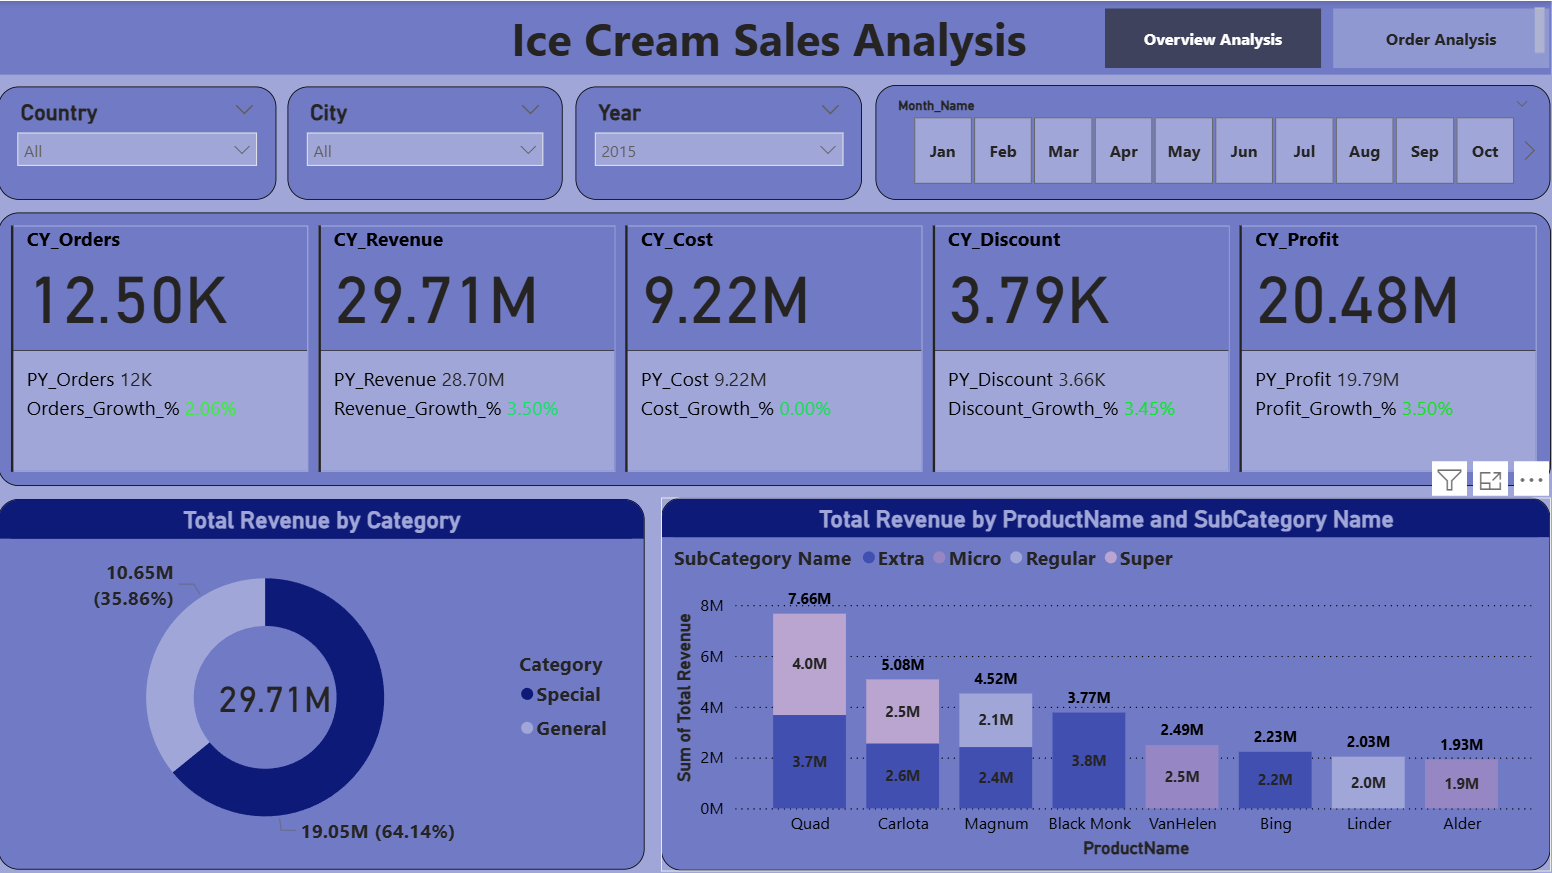

This screenshot's page, from the dashboard's own definition file:
{"tool":"powerbi","page":{"name":"Overview Analysis","canvas":[1280,720],"ordinal":0},"visuals":[{"type":"donutChart","title":"Total Revenue by Category","fields":{"Category":["Categories.Category"],"Y":["Final Sales.Total Revenue"]},"box":[0,410.3,532.8,305.4],"z":0,"group":"g1"},{"type":"slicer","fields":{"Values":["Date Master.Year"]},"box":[476.2,70,236,93.3],"z":0},{"type":"card","fields":{"Values":["Final Sales.Total Revenue"]},"box":[159.1,542.6,136.8,59.8],"z":1000,"group":"g1"},{"type":"cardVisual","fields":{"Data":["Calculations.CY_Orders","Calculations.CY_Revenue","Calculations.CY_Cost","Calculations.CY_Discount","Calculations.CY_Profit"]},"box":[0,174.3,1279,225.1],"z":1000},{"type":"actionButton","box":[0,0,100,40],"z":2000},{"type":"textbox","box":[0,0,1279,60.4],"z":3000},{"type":"slicer","fields":{"Values":["Geography.Country"]},"box":[0,70,229.2,93.3],"z":4000},{"type":"slicer","fields":{"Values":["Geography.city"]},"box":[238.8,70,226.4,93.3],"z":5000},{"type":"slicer","fields":{"Values":["Date Master.Month_Name"]},"box":[723.2,68.6,555.8,94.7],"z":6000},{"type":"columnChart","title":"Total Revenue by ProductName and SubCategory Name","fields":{"Y":["Final Sales.Total Revenue"],"Category":["Product.ProductName"],"Series":["SubCategory.SubCategory Name"]},"box":[546.2,409,732.8,307.4],"z":7000},{"type":"pageNavigator","box":[911.6,6.1,368,50],"z":8000},{"type":"group","id":"g1","title":"Group 1","box":[0,410.3,532.8,305.4],"z":9000}]}

Visuals, with their boxes in screenshot pixels (x1, y1, x2, y2), scaled from the page's 1280x720 canvas onto the 1552x873 screenshot:
"Total Revenue by Category" donutChart: [0, 497, 646, 868]
slicer - Date Master.Year: [577, 85, 864, 198]
card - Final Sales.Total Revenue: [193, 658, 359, 730]
cardVisual - Calculations.CY_Orders x Calculations.CY_Revenue: [0, 211, 1551, 484]
actionButton: [0, 0, 121, 48]
textbox: [0, 0, 1551, 73]
slicer - Geography.Country: [0, 85, 278, 198]
slicer - Geography.city: [290, 85, 564, 198]
slicer - Date Master.Month_Name: [877, 83, 1551, 198]
"Total Revenue by ProductName and SubCategory Name" columnChart: [662, 496, 1551, 869]
pageNavigator: [1105, 7, 1551, 68]
"Group 1" group: [0, 497, 646, 868]
